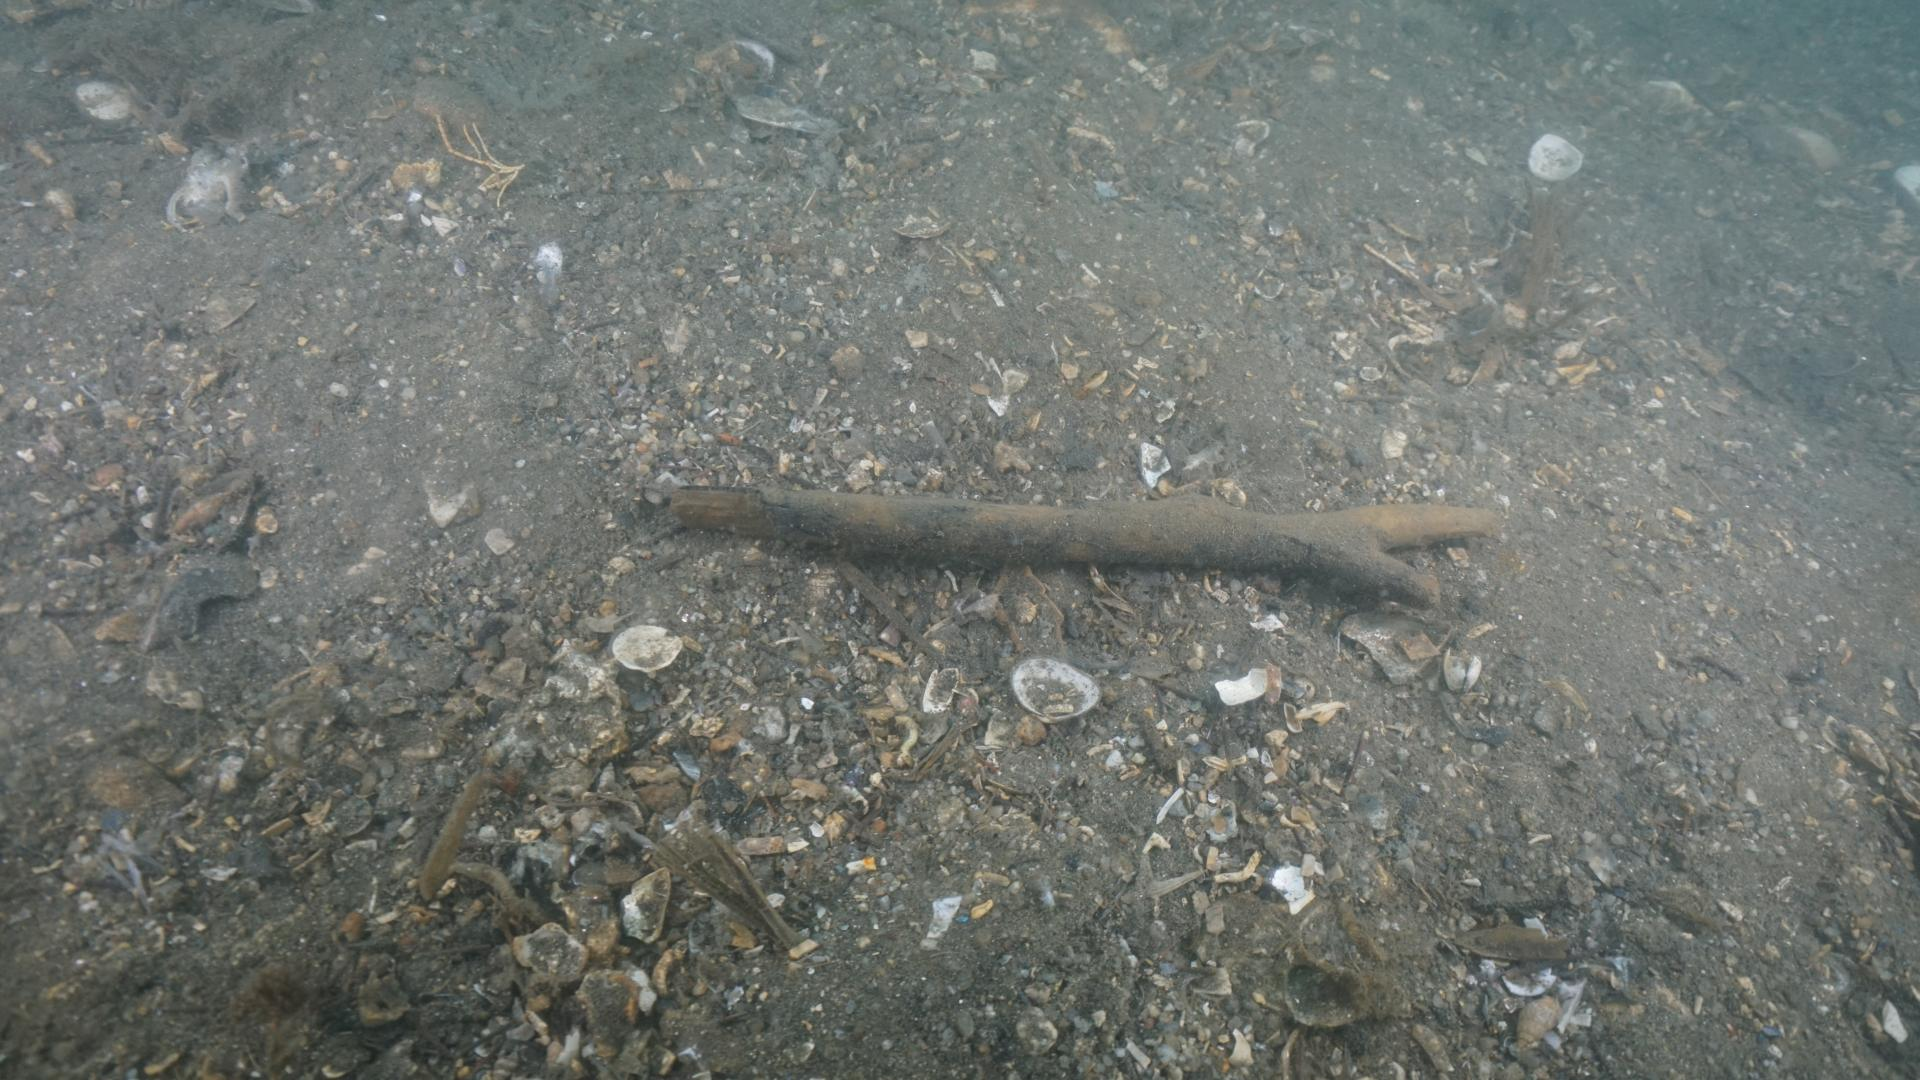wood: (667, 480, 1495, 611)
